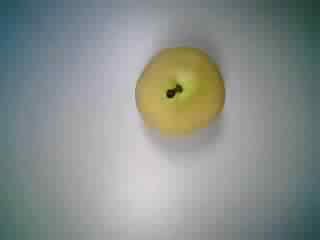pear: (129, 39, 234, 142)
